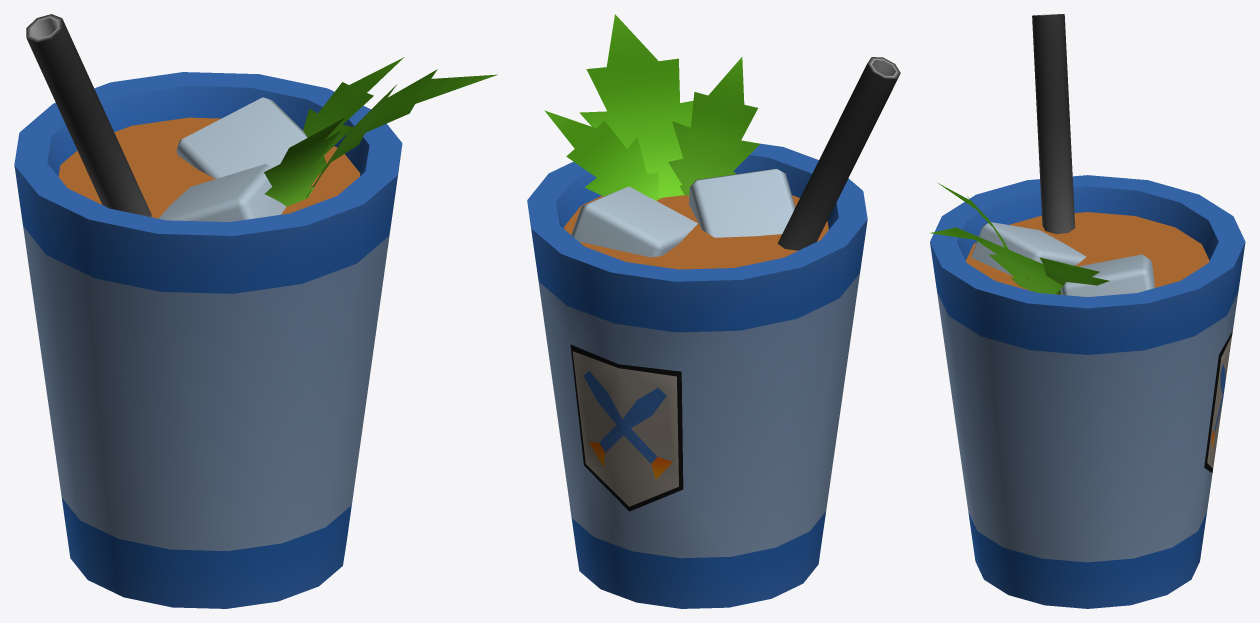
Rendered from Product IcedTea.fbx.
3 views of the same model, side by side, from view 1: azimuth 30°, elevation 25°; view 2: azimuth 150°, elevation 25°; view 3: azimuth 270°, elevation 25° (orthographic). The views are drawn at different scales.
Visible parts, largest first — view 1: Product_IcedTea; view 2: Product_IcedTea; view 3: Product_IcedTea.
Boxes of the visible parts, x1,y1,x2,y2 form: Product_IcedTea: (14,14,497,608); Product_IcedTea: (527,14,900,608); Product_IcedTea: (930,14,1245,608).
Size of the model in its own units: 103 by 147 by 88.27.
